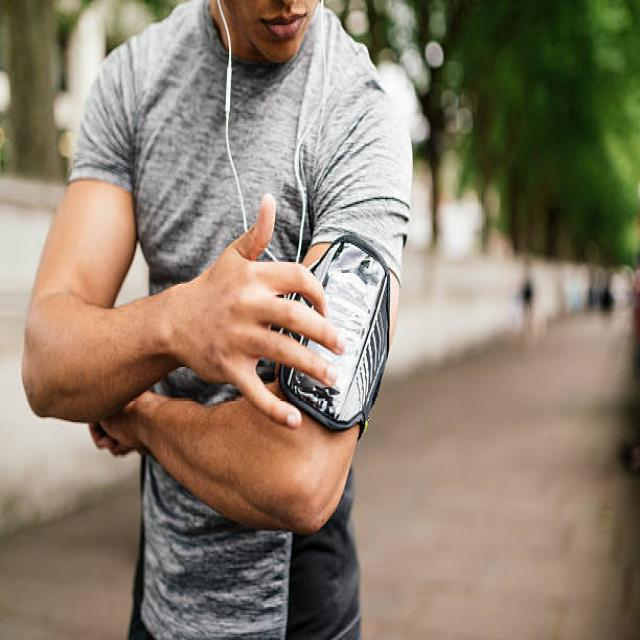Earphone: (216, 0, 330, 259)
